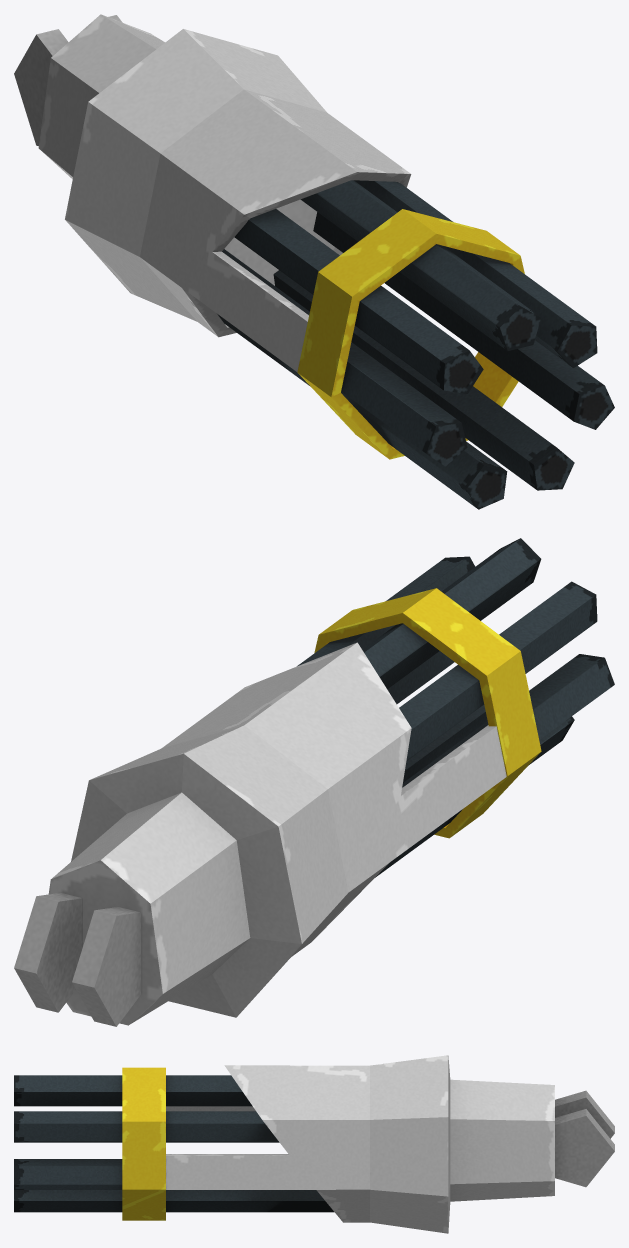
The model's file is Minigun.fbx.
The picture shows the model from 3 angles, top to bottom: view 1: azimuth 30°, elevation 25°; view 2: azimuth 150°, elevation 25°; view 3: azimuth 270°, elevation 25°; orthographic projection. The views are drawn at different scales.
Parts seen in each view (by area): view 1: Cube; view 2: Cube; view 3: Cube.
Boxes of the visible parts, x1,y1,x2,y2 form: Cube: [14, 14, 614, 509]; Cube: [14, 538, 614, 1026]; Cube: [14, 1055, 614, 1233].
Bounding box in the file's own units: 326 × 331 × 1114.
